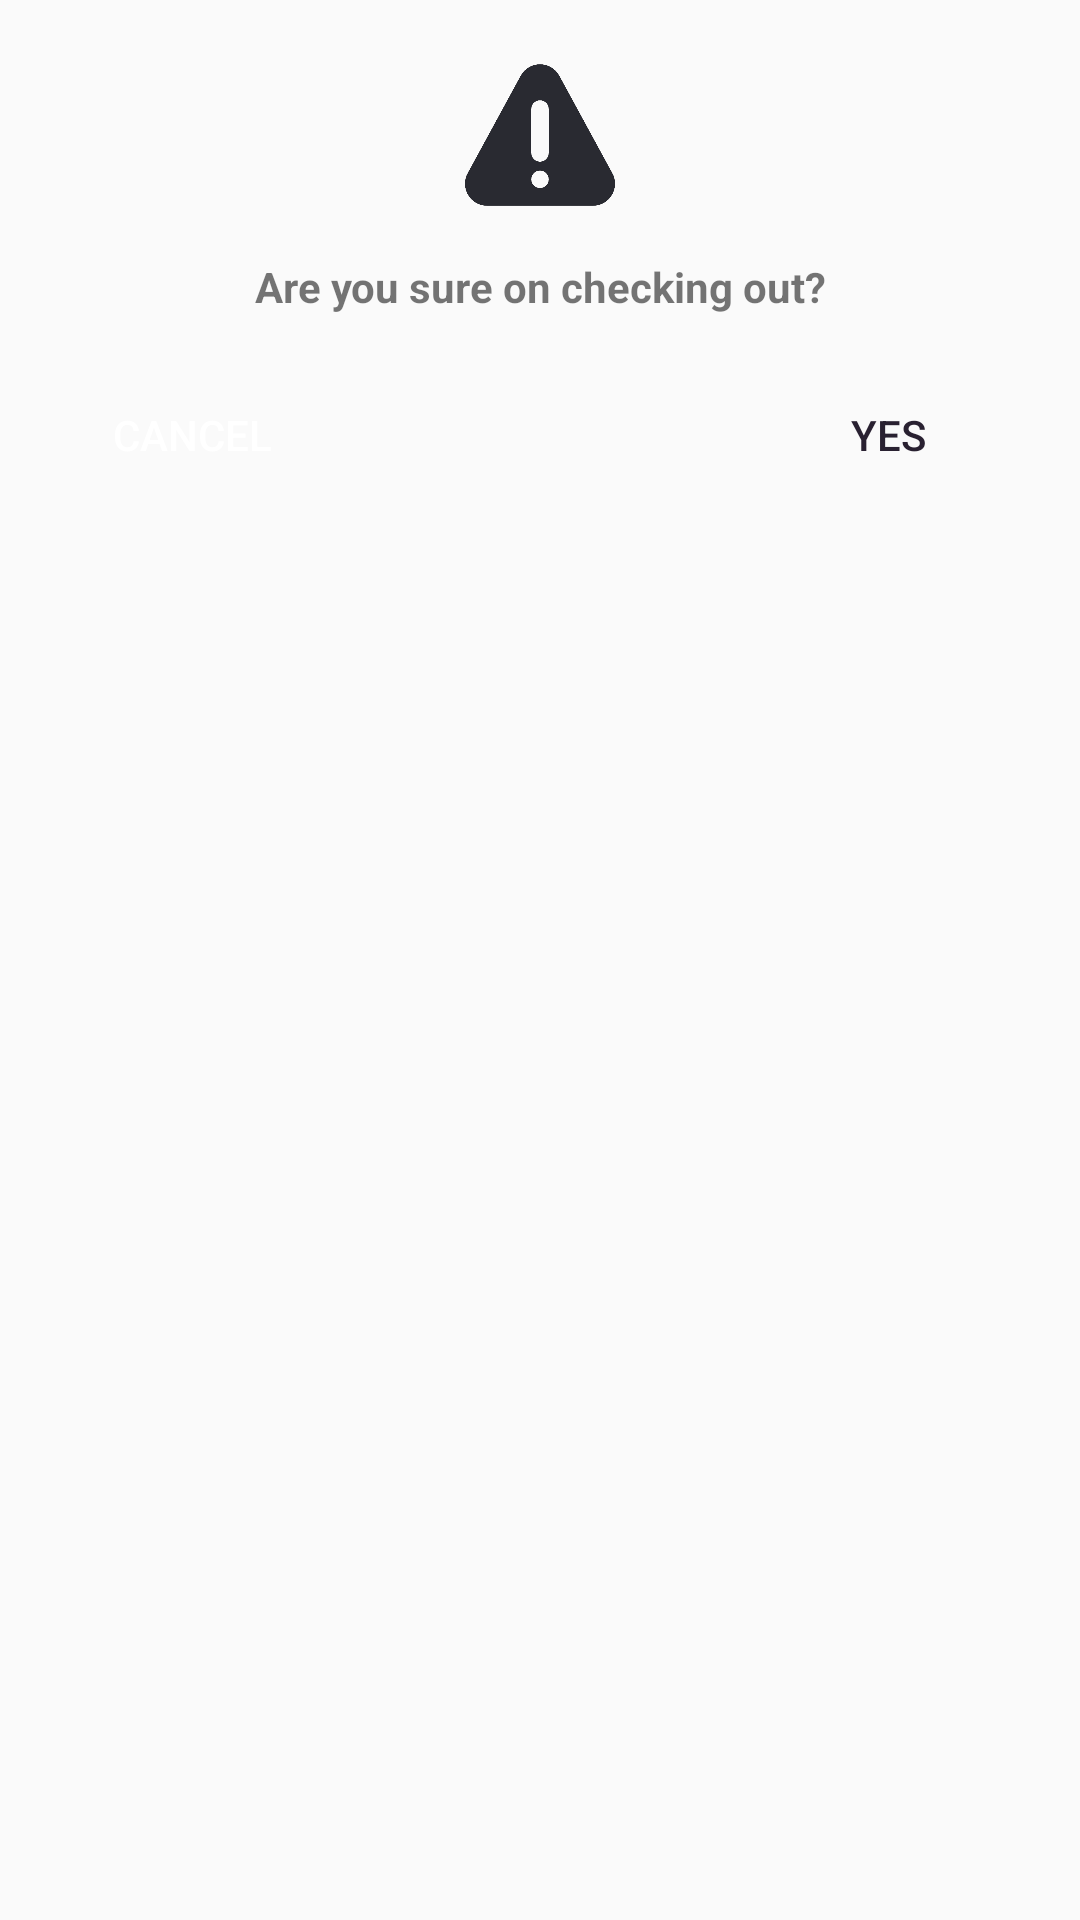

Screen size 1080*1920. Icon name, then its center in pixels as [x,y]:
warning: [540,135]
